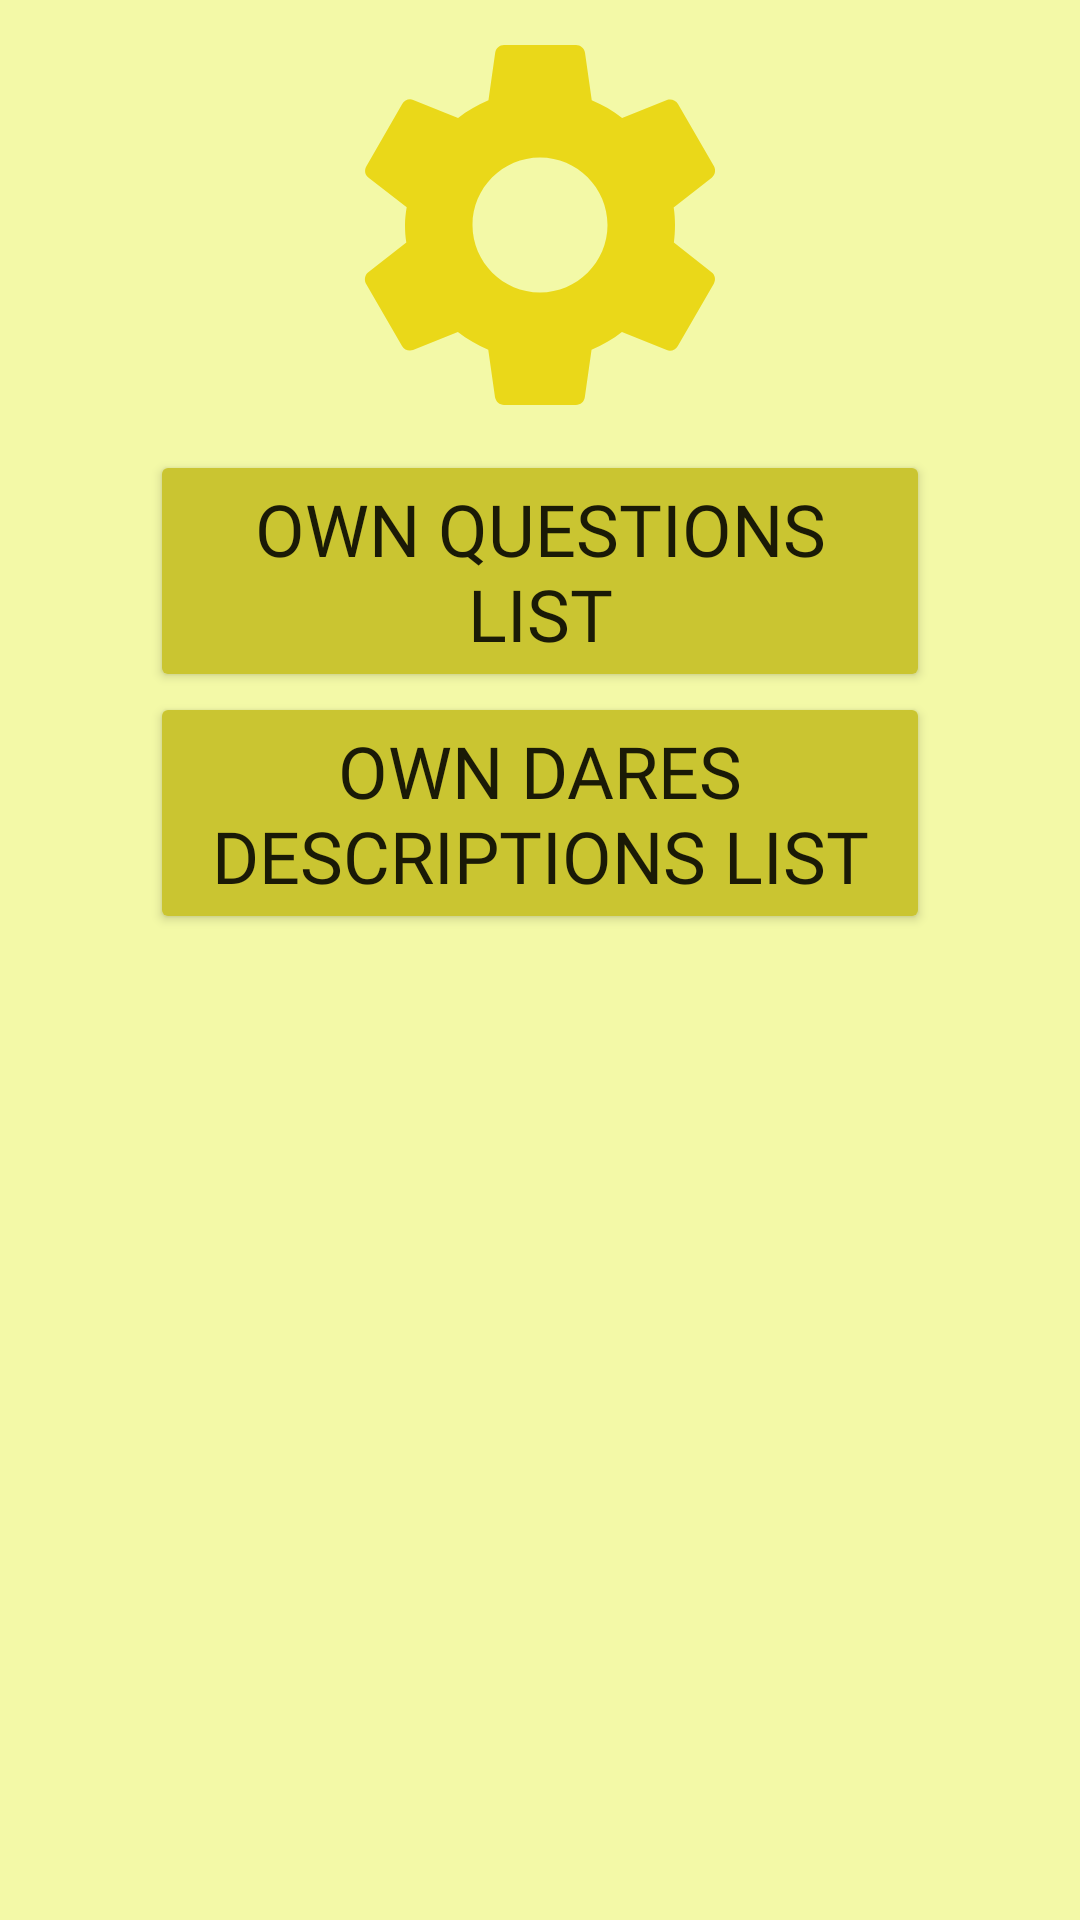

Named icons in this screenshot (1080 x 1920) and their bounding boxes, bbox(x1, y1, x2, y2):
settings: bbox(365, 45, 715, 405)
